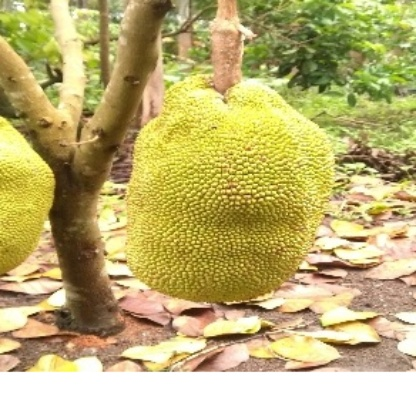mit: (121, 55, 332, 313), (2, 88, 62, 290)
